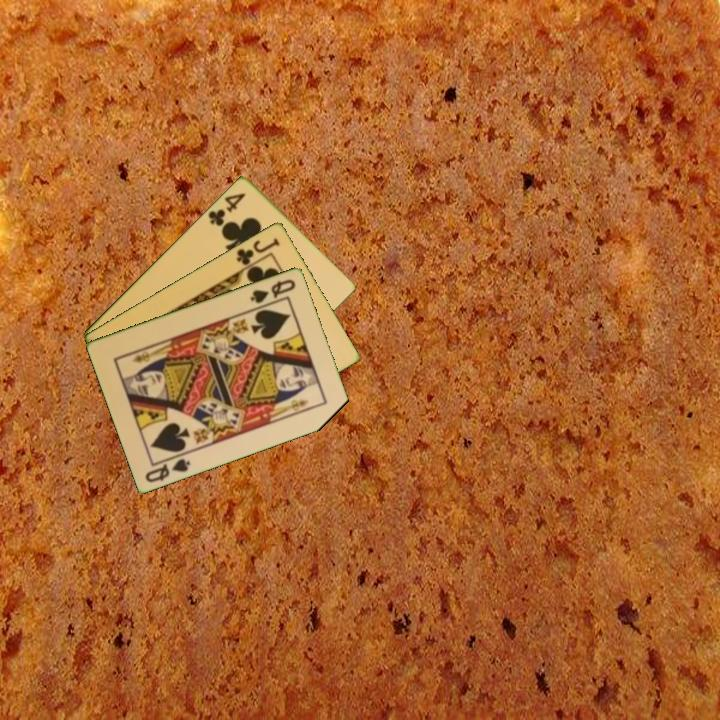4c: (204, 189, 248, 231)
Jc: (233, 234, 283, 273)
Qs: (142, 449, 193, 485), (246, 275, 299, 306)
